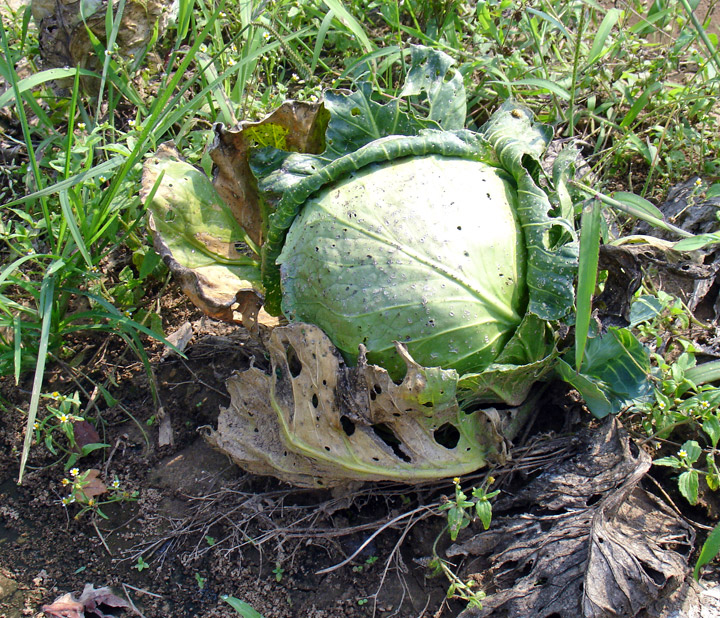cabbage: (281, 156, 523, 378)
